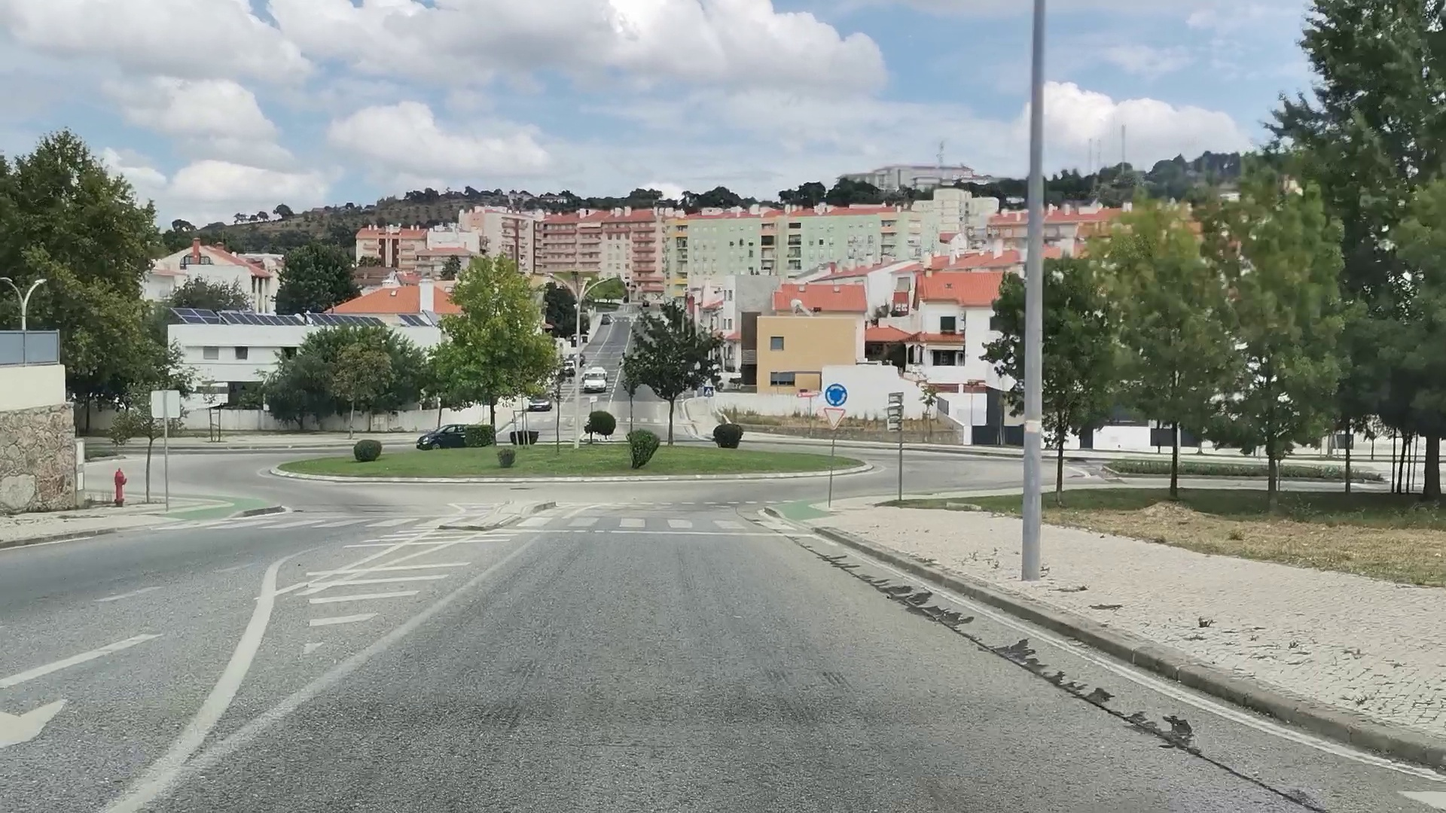Stairs: (515, 514, 796, 533), (146, 514, 424, 532)
